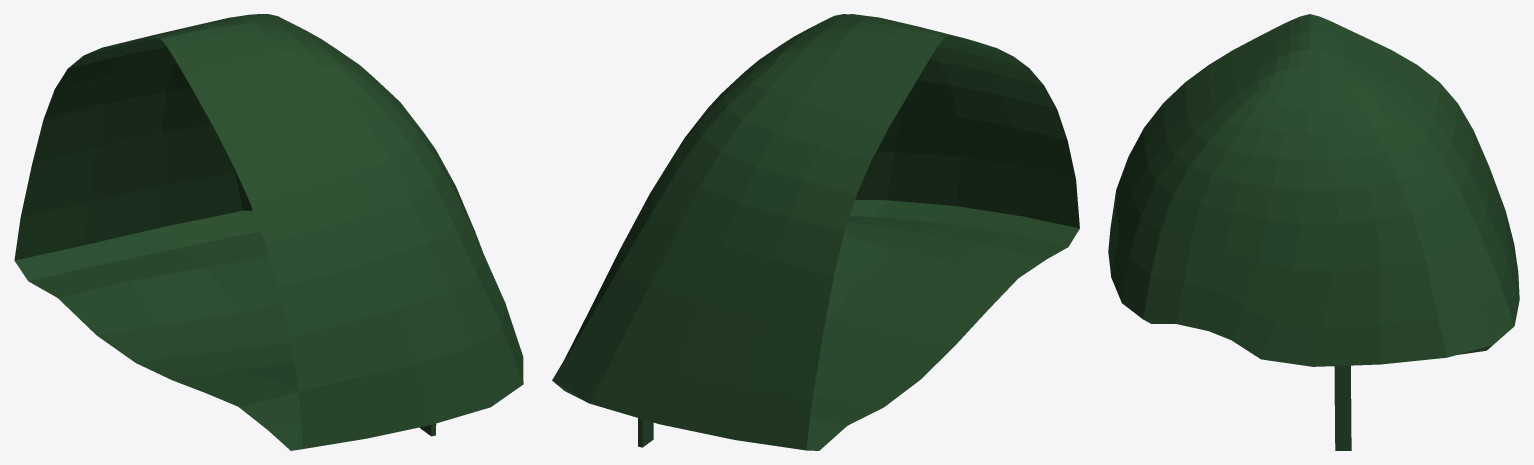
Rendered from casco_militar.glb.
3 renders of one model, left to right at view 1: azimuth 30°, elevation 25°; view 2: azimuth 150°, elevation 25°; view 3: azimuth 270°, elevation 25°, orthographic. The views are drawn at different scales.
Parts seen in each view (by area): view 1: Cube; view 2: Cube; view 3: Cube.
Boxes of the visible parts, x1,y1,x2,y2 form: Cube: (14,14,523,450); Cube: (552,14,1079,450); Cube: (1108,14,1519,450).
Size of the model in its own units: 1.46 by 2.2 by 2.44.
